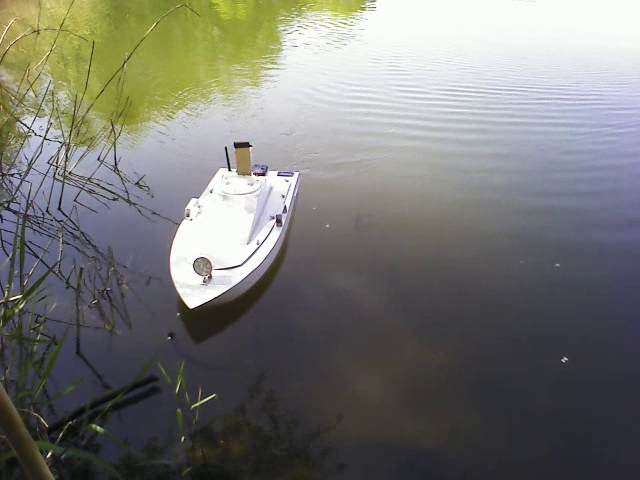boat: (166, 155, 301, 311)
